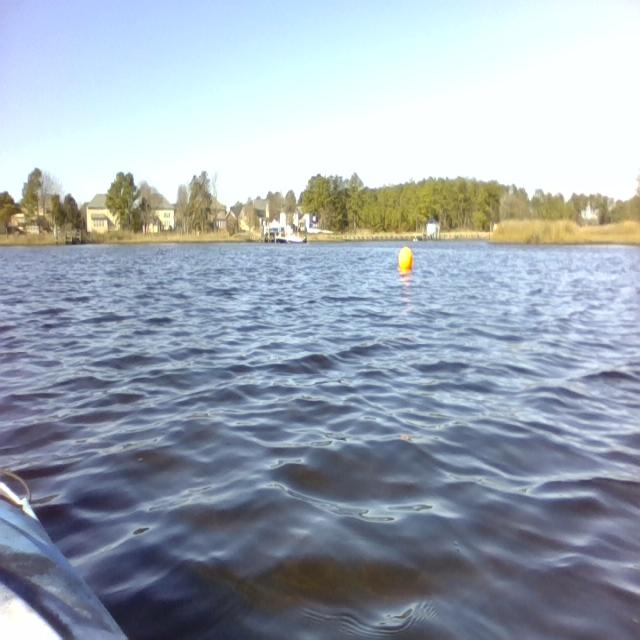Buoy: (396, 241, 417, 284)
